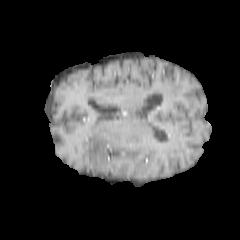glioma: (79, 128, 146, 169)
